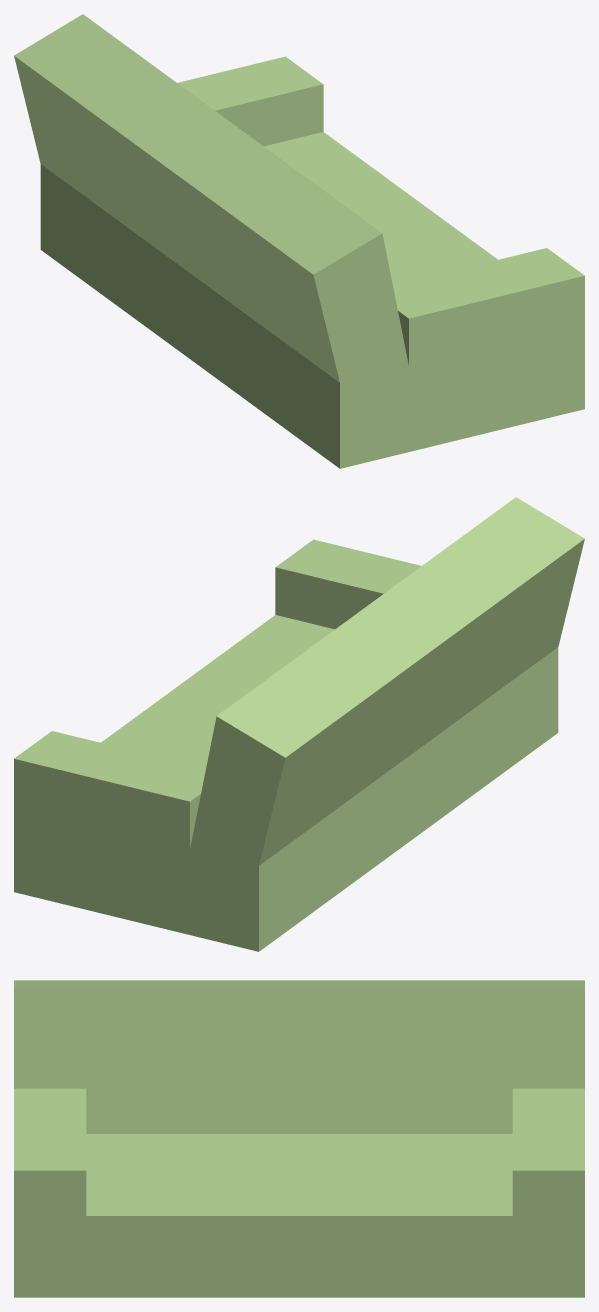
Rendered from couch_01.fbx.
The picture shows the model from 3 angles, top to bottom: view 1: azimuth 30°, elevation 25°; view 2: azimuth 150°, elevation 25°; view 3: azimuth 270°, elevation 25°; orthographic projection. The views are drawn at different scales.
Visible parts, largest first — view 1: pCube274; view 2: pCube274; view 3: pCube274.
Boxes of the visible parts, left/top/right/bottom form: pCube274: left=14, top=14, right=584, bottom=468; pCube274: left=14, top=497, right=584, bottom=951; pCube274: left=14, top=980, right=584, bottom=1297.
Size of the model in its own units: 8.54 by 6.77 by 16.31.
